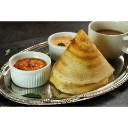dosa: (53, 29, 113, 88)
